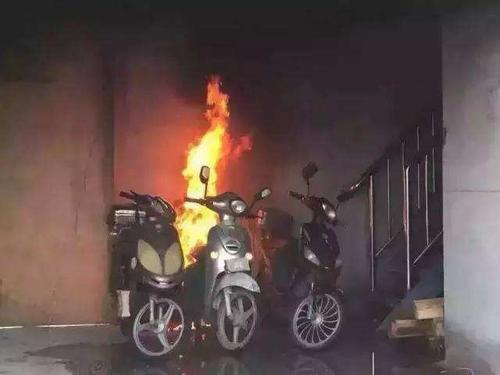fire: (176, 75, 252, 255)
